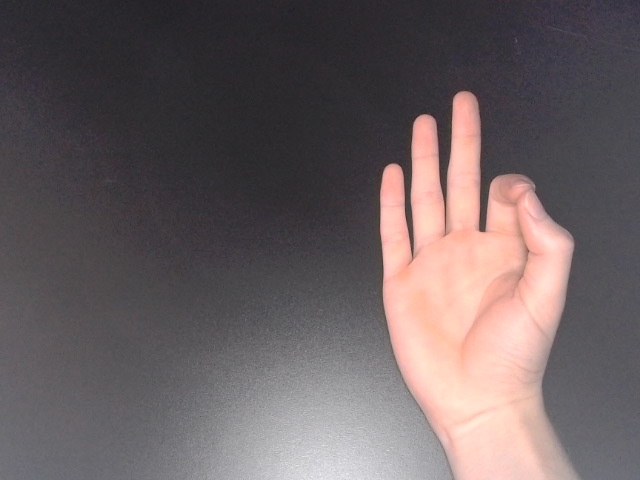f: (375, 88, 578, 442)
